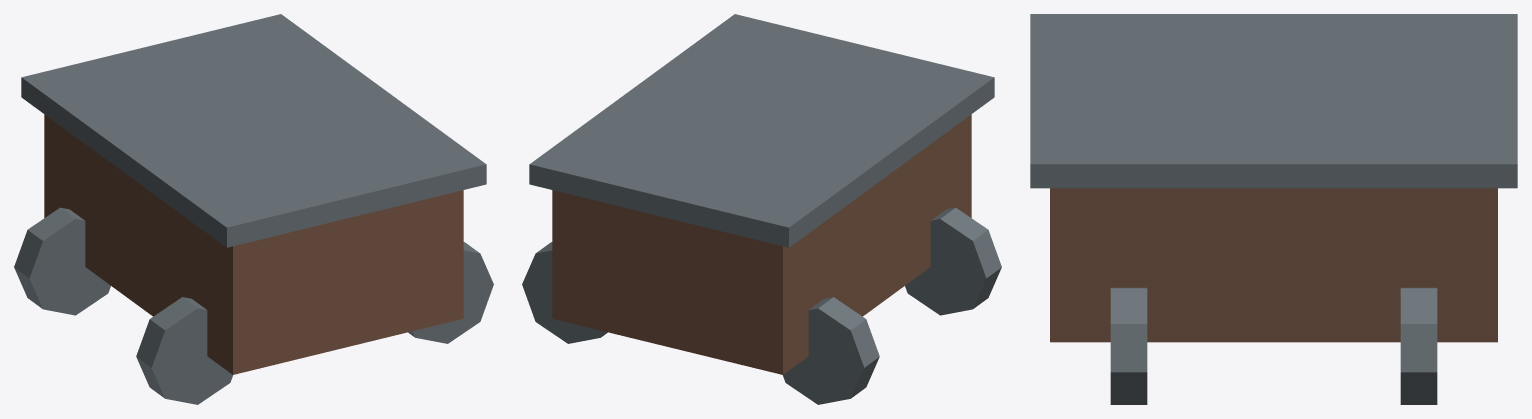
The model's file is cave_mine_cart.glb.
3 renders of one model, left to right at view 1: azimuth 30°, elevation 25°; view 2: azimuth 150°, elevation 25°; view 3: azimuth 270°, elevation 25°, orthographic. The views are drawn at different scales.
Visible parts, largest first — view 1: cave_mine_cart_Mesh; view 2: cave_mine_cart_Mesh; view 3: cave_mine_cart_Mesh.
Part boxes in pixels (x1,y1,x2,y2): cave_mine_cart_Mesh: (14, 14, 493, 404); cave_mine_cart_Mesh: (522, 14, 1001, 404); cave_mine_cart_Mesh: (1030, 14, 1517, 404).
Size of the model in its own units: 1.78 by 1.01 by 1.85.
